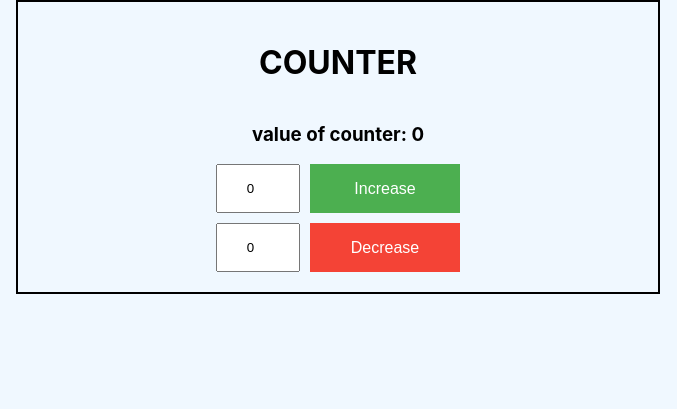
Test: Testing my counter appp › Increase Counter › should increase counter by entered value
This screenshot has width=677, height=409.
In the number field with test id "value_inc": x=258, y=189 [216,164,300,213], type "5"
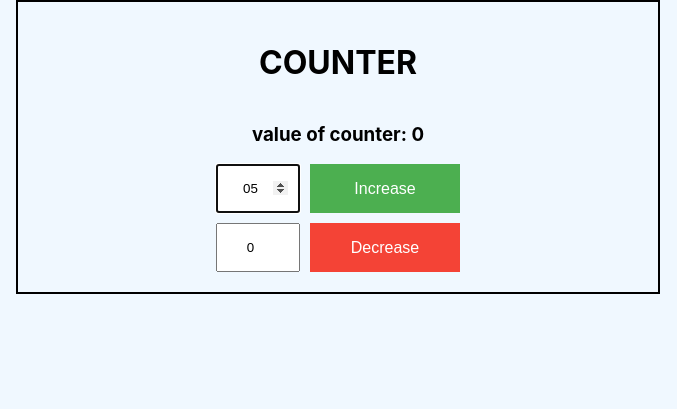
Click the button with test id "button_inc": x=385, y=189 [310,164,460,213]
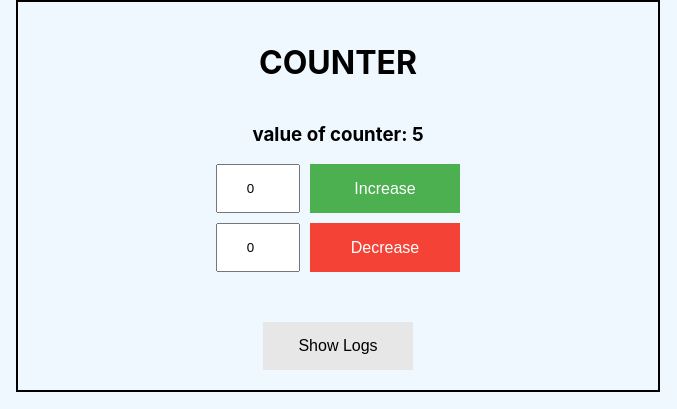
Expected: the heading with test id "counter-value" reads "value of counter: 5", [253,123,424,146]
